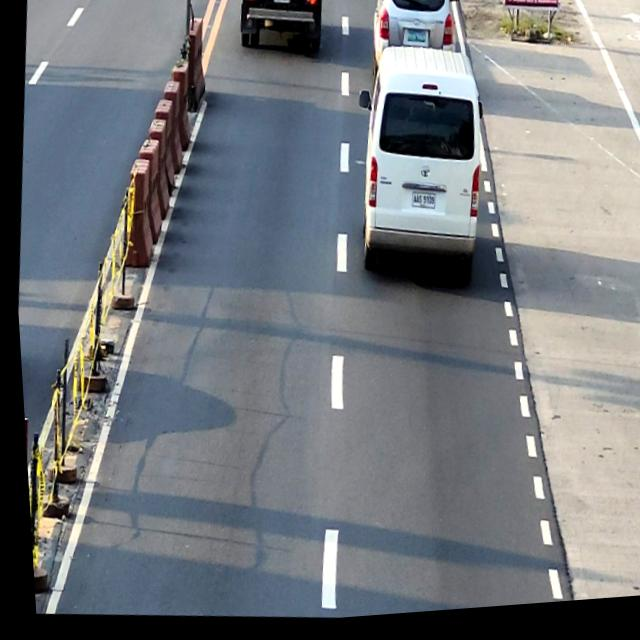Car: (338, 45, 495, 297), (361, 0, 464, 94)
License-Plate: (408, 198, 433, 215), (405, 34, 425, 49), (272, 0, 290, 9)
Truck: (233, 0, 327, 67)
